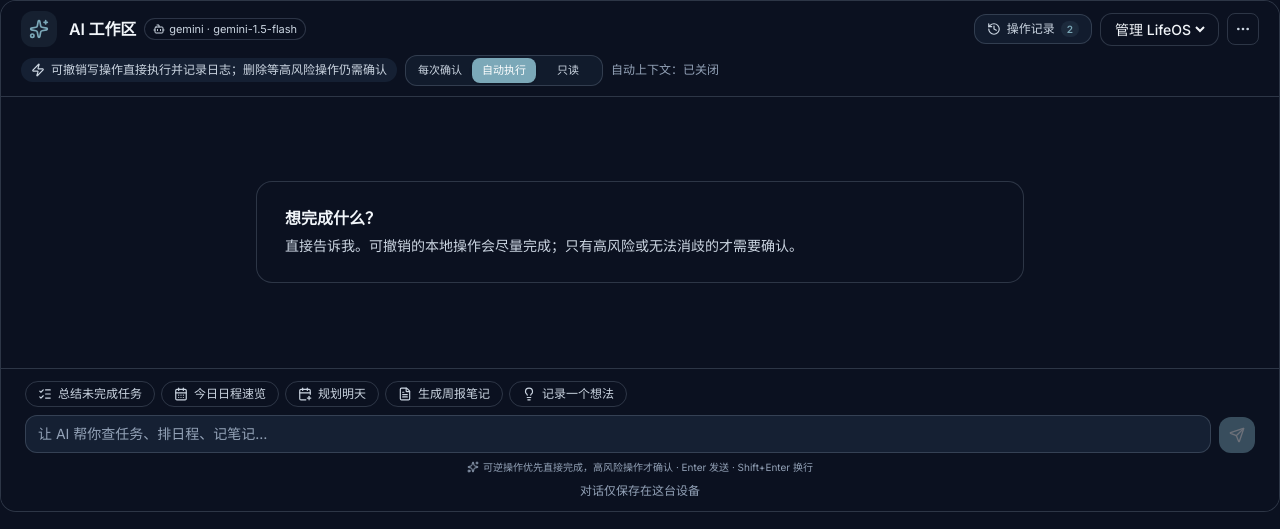
Test: AICommandCenter — full management loop › read-only queries auto-execute without confirmation
Step 1. Type "我今天该先做什么？" into the text box with test id "agent-composer-input" → (618,434), box [25,415,1211,453]
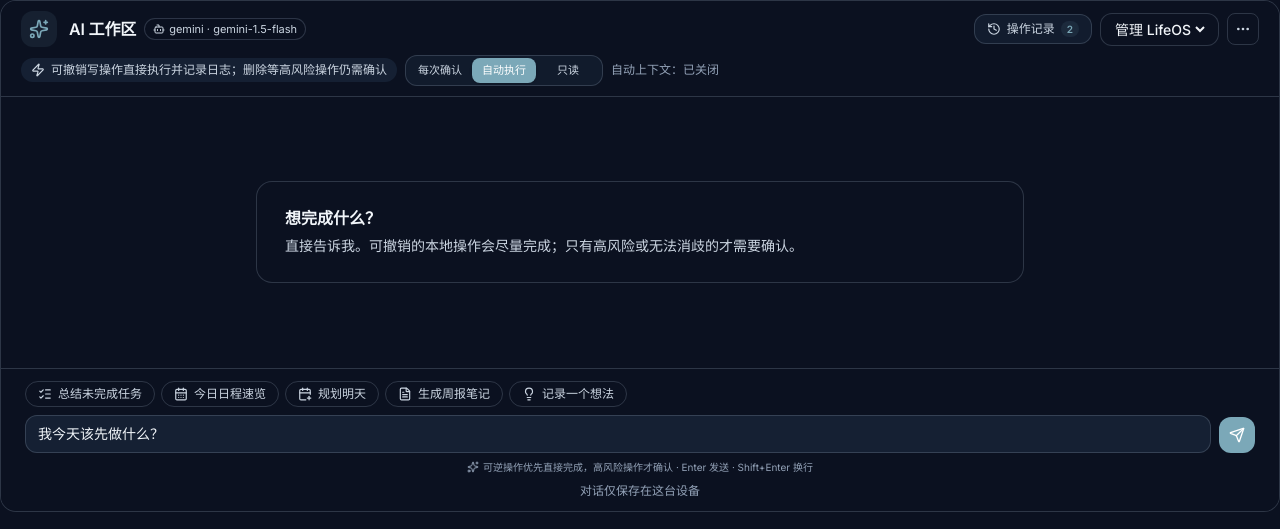
Step 2. Click the button named "发送" → (1237,435), box [1219,417,1255,453]
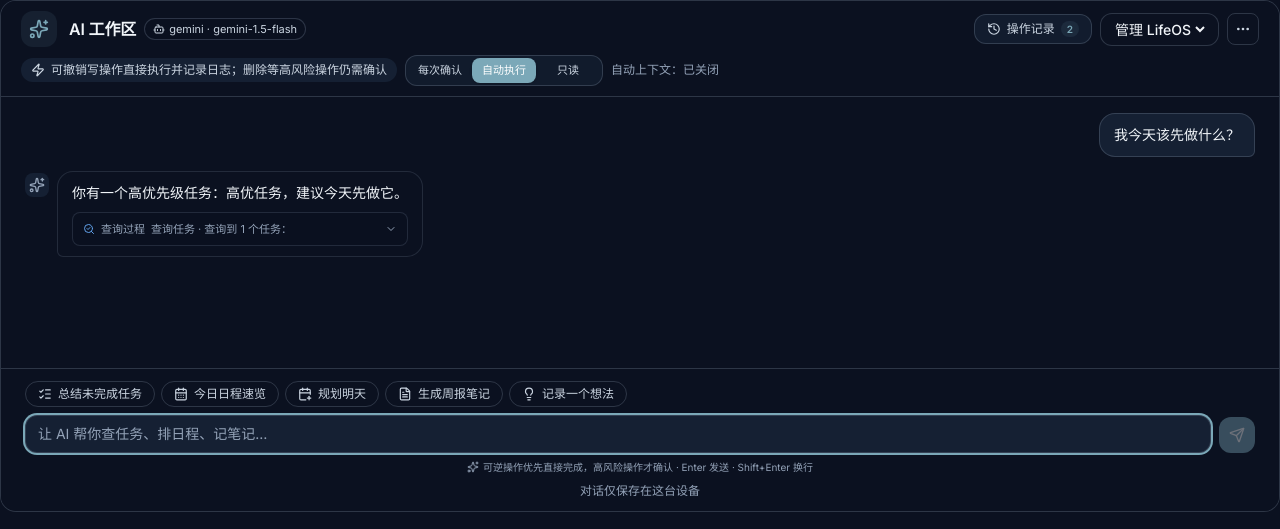
Expected: the text "你有一个高优先级任务：高优任务，建议今天先做它。" is shown, [72,182,408,204]
